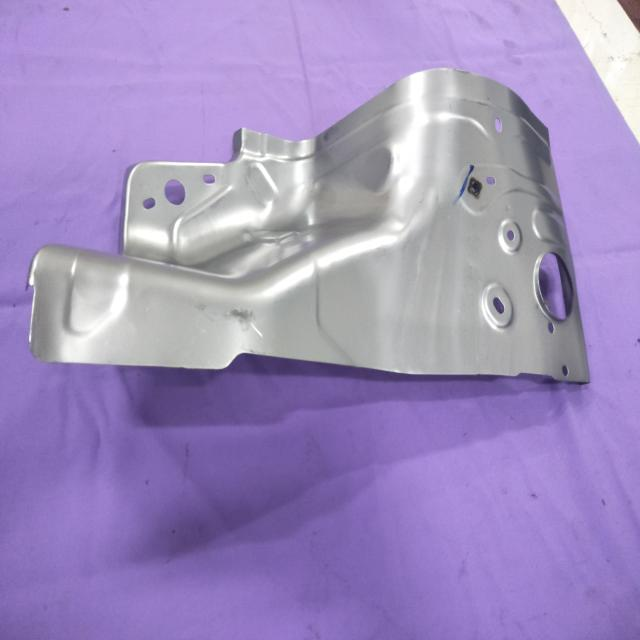Healthy: (26, 65, 592, 389)
